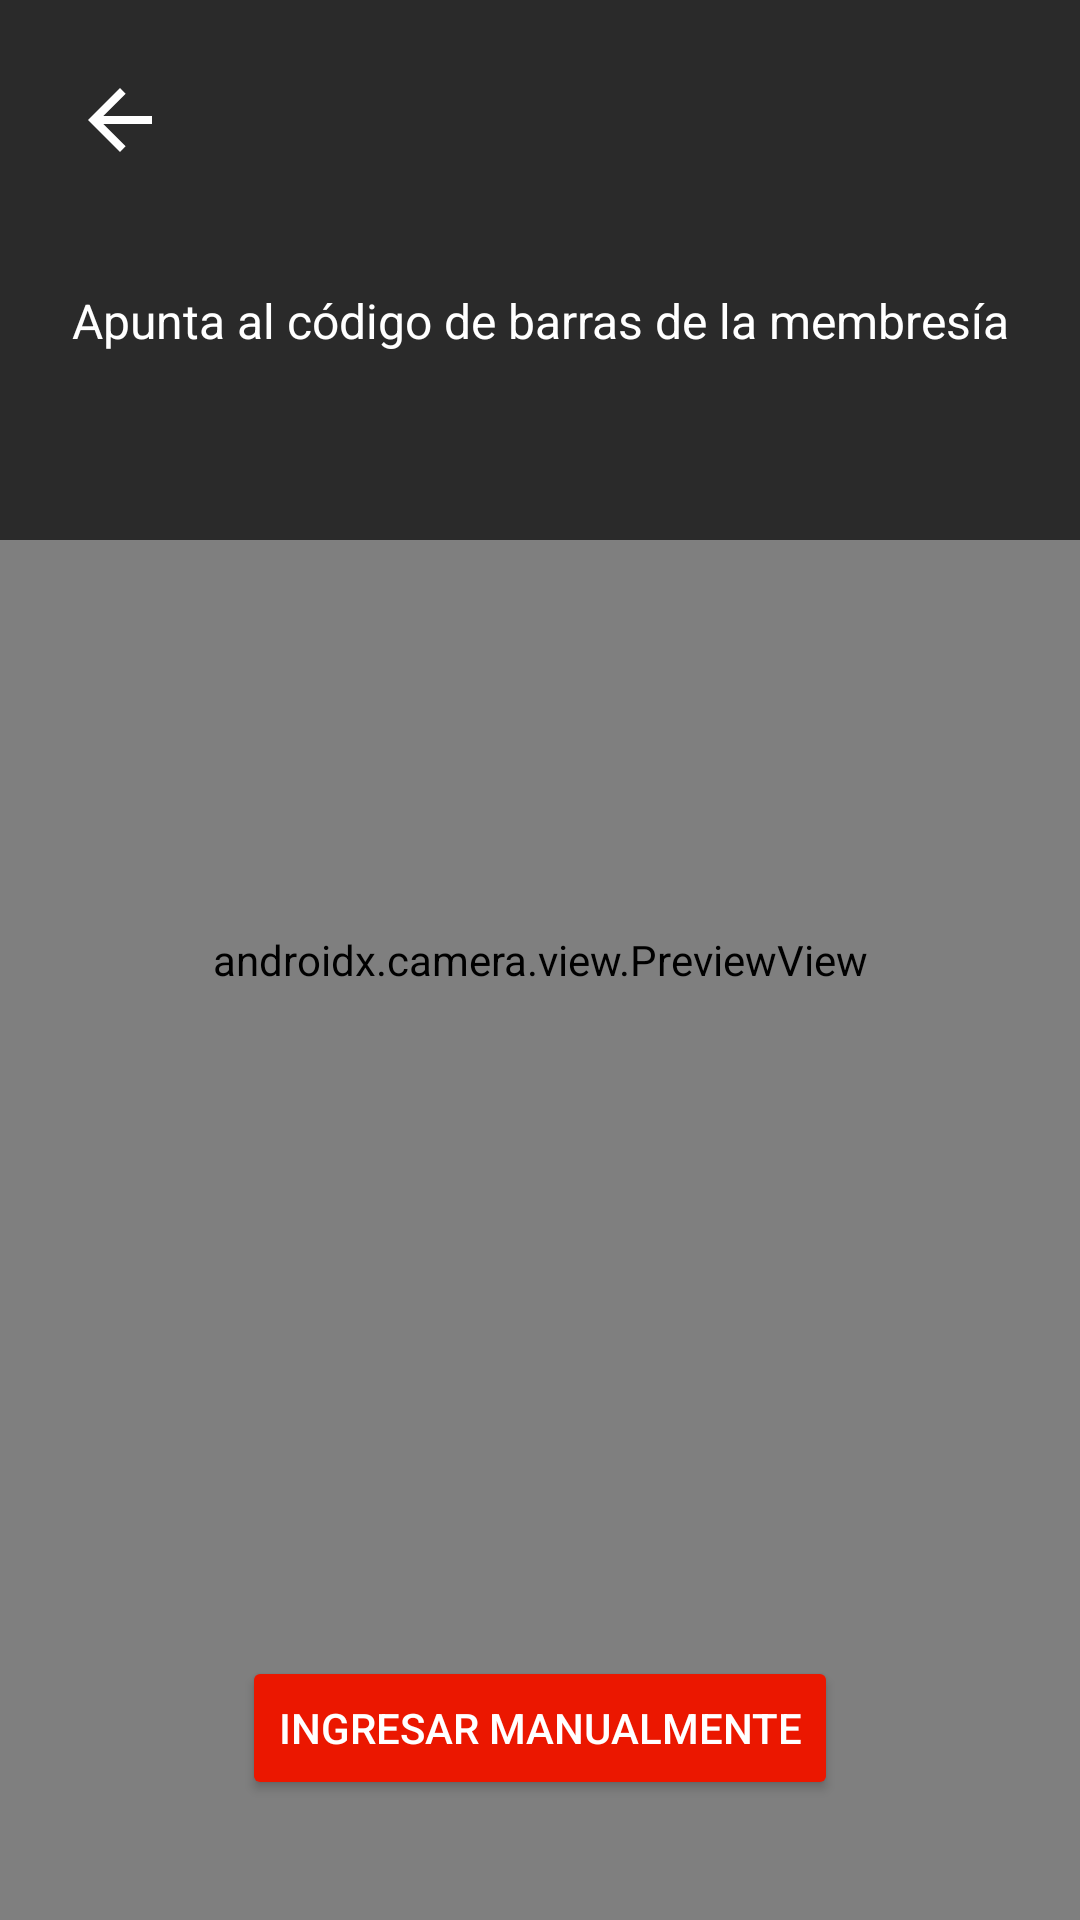

Icons on this 1080 x 1920 Android screen, each with the point to tap as (x=x, y=y):
arrow back: (x=120, y=120)
